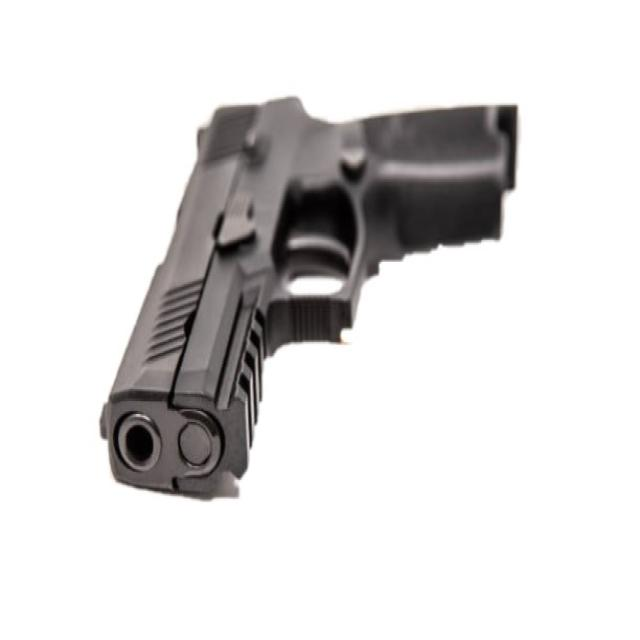pistol: (97, 82, 524, 505)
